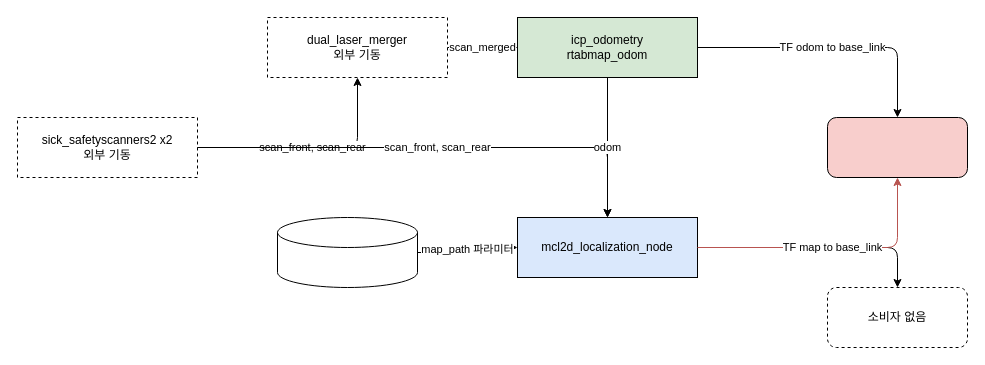
The diagram is 985 pixels wide and 365 high, and some of its shapes have lost their labels. Here are the shapes that lost their labels. From the top down, the box of each, then its label:
(826, 116, 968, 178): TF 트리
(276, 216, 418, 288): smap 파일
